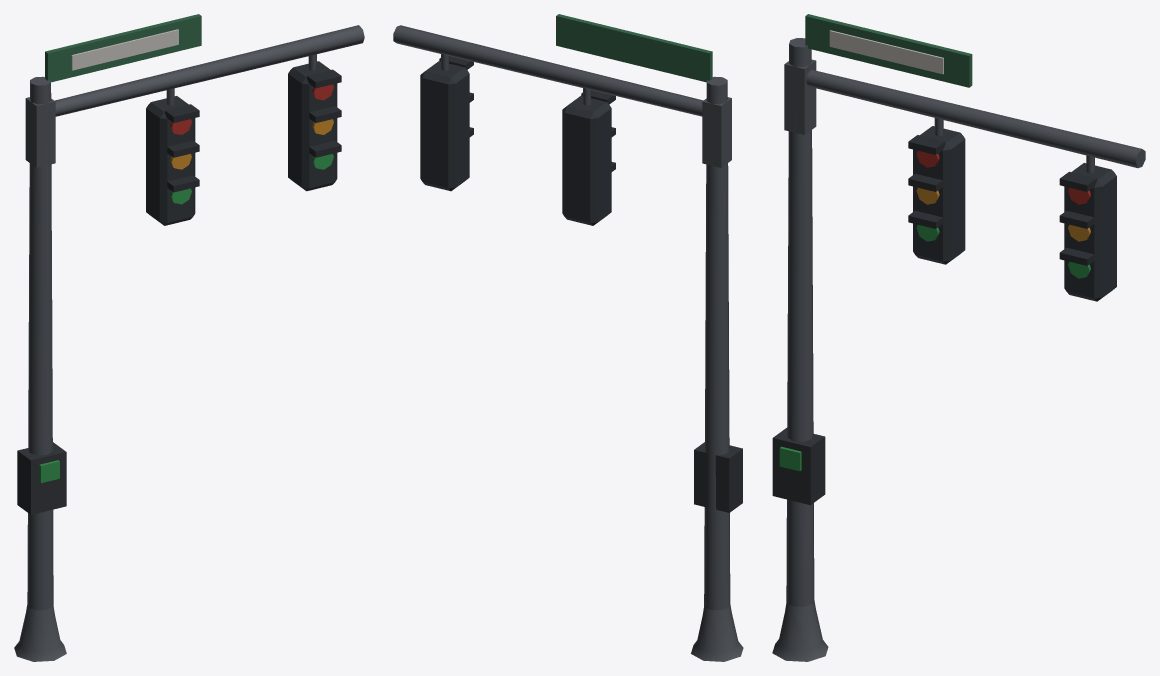
File: signal-mastarm-01.glb
3 renders of one model, left to right at view 1: azimuth 30°, elevation 25°; view 2: azimuth 150°, elevation 25°; view 3: azimuth 330°, elevation 25°, orthographic. The views are drawn at different scales.
Visible parts, largest first — view 1: signal_mastarm_01; view 2: signal_mastarm_01; view 3: signal_mastarm_01.
Boxes of the visible parts, left/top/right/bottom form: signal_mastarm_01: left=14, top=14, right=364, bottom=661; signal_mastarm_01: left=393, top=14, right=743, bottom=661; signal_mastarm_01: left=772, top=14, right=1145, bottom=661.
Size of the model in its own units: 2.9 by 4.82 by 0.4351.
